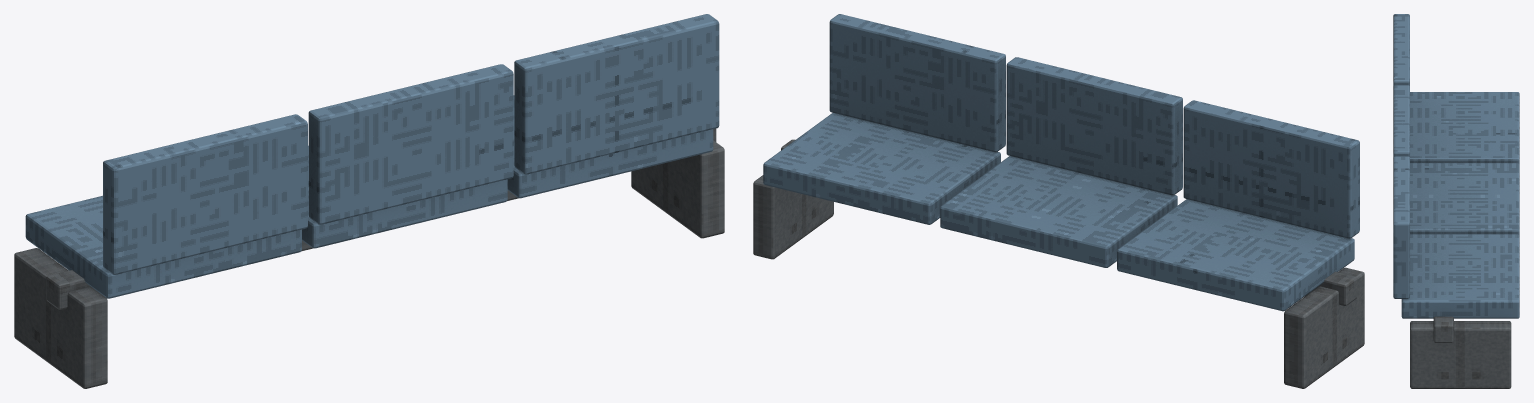
Rendered from base_bench.glb.
3 renders of one model, left to right at view 1: azimuth 30°, elevation 25°; view 2: azimuth 150°, elevation 25°; view 3: azimuth 270°, elevation 25°, orthographic. The views are drawn at different scales.
Parts seen in each view (by area): view 1: base_bench; view 2: base_bench; view 3: base_bench.
Part boxes in pixels (x1=…): base_bench: x1=14, y1=14, x2=724, y2=388; base_bench: x1=753, y1=14, x2=1364, y2=388; base_bench: x1=1393, y1=14, x2=1519, y2=388.
Bounding box in the file's own units: 3.2 × 1.05 × 0.75.
Materials: 2 (2 with a texture image).
